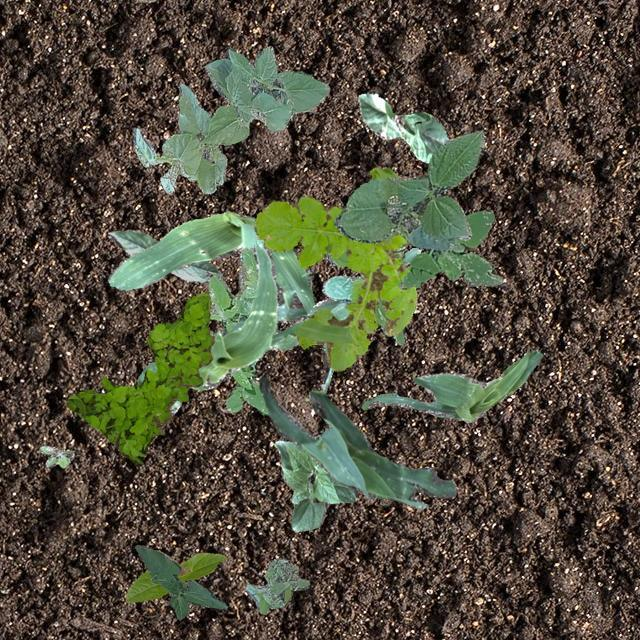crop: (136, 236, 420, 414), (106, 210, 332, 393), (132, 44, 328, 192), (258, 376, 456, 510), (332, 128, 483, 250), (358, 348, 542, 422), (322, 242, 406, 344), (272, 440, 356, 530), (134, 544, 226, 618), (356, 92, 448, 162), (106, 228, 224, 282), (124, 552, 226, 600)
weed: (254, 167, 416, 370), (64, 292, 214, 464), (191, 246, 267, 414), (398, 210, 502, 288), (244, 558, 308, 614), (39, 444, 73, 466)
